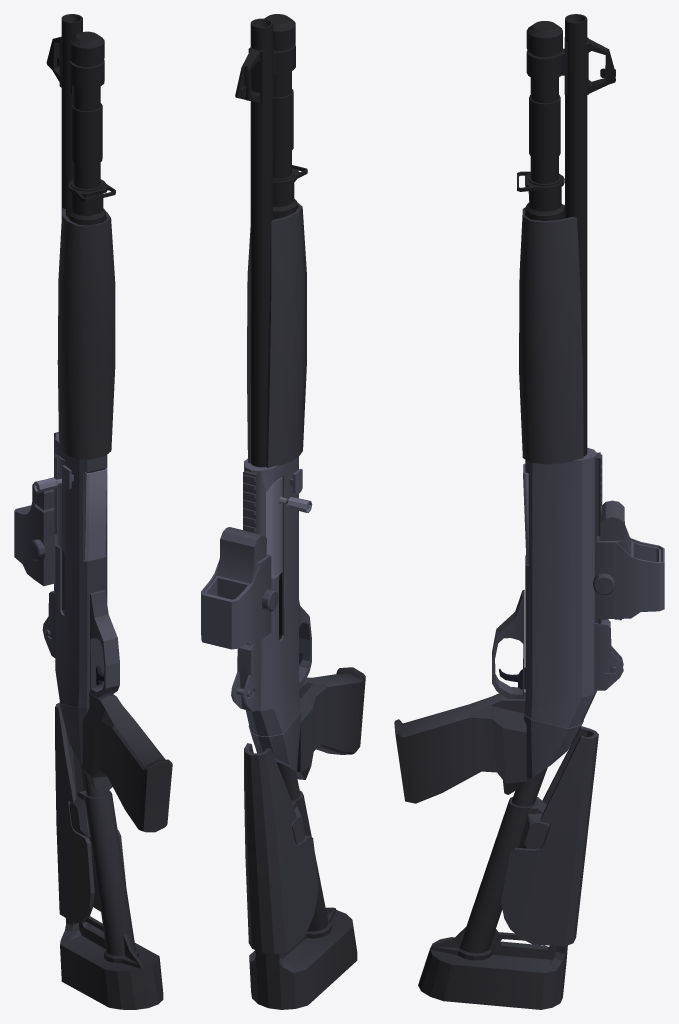
The model's file is Shotgun.FBX.
The picture shows the model from 3 angles, left to right: view 1: azimuth 30°, elevation 25°; view 2: azimuth 150°, elevation 25°; view 3: azimuth 270°, elevation 25°; orthographic projection. The views are drawn at different scales.
Visible parts, largest first — view 1: Shotgun_base, Shotgun Stock, Shotgun_Holosight, Shotgun_Loader, Shotgun_Lewer; view 2: Shotgun_base, Shotgun Stock, Shotgun_Holosight, Shotgun_Lewer; view 3: Shotgun_base, Shotgun Stock, Shotgun_Holosight.
Boxes of the visible parts, box(x1,y1,x2,y2) form: Shotgun_base: box(42, 14, 172, 832); Shotgun Stock: box(55, 702, 163, 1009); Shotgun_Holosight: box(14, 477, 54, 586); Shotgun_Loader: box(84, 467, 107, 560); Shotgun_Lewer: box(33, 455, 64, 551); Shotgun_base: box(231, 14, 365, 779); Shotgun Stock: box(244, 743, 357, 1009); Shotgun_Holosight: box(201, 527, 278, 649); Shotgun_Lewer: box(266, 476, 312, 576); Shotgun_base: box(394, 14, 623, 803); Shotgun Stock: box(418, 726, 598, 1009); Shotgun_Holosight: box(593, 500, 664, 620).
Bounding box in the file's own units: 0.2229 × 2.99 × 0.7474.
